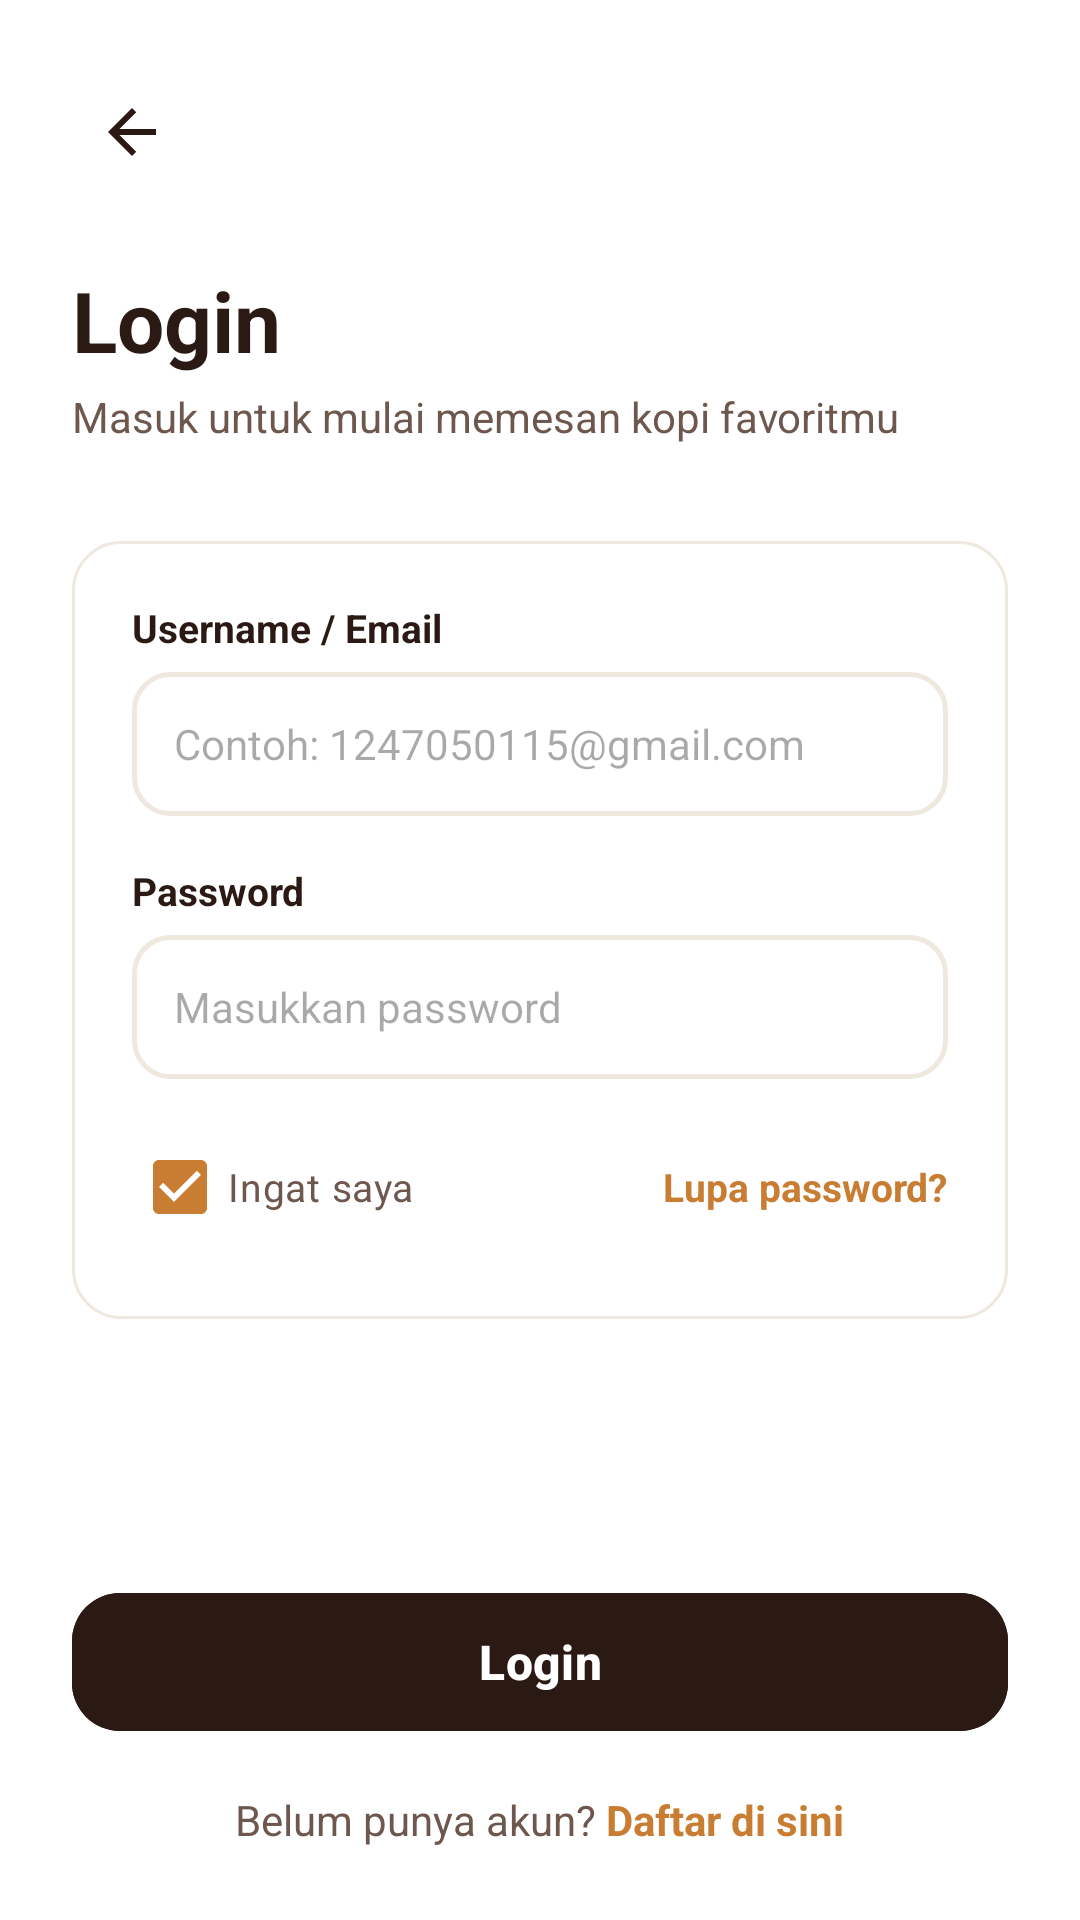

Icons on this 1080px x 1920px Android screen, each with its box as box(x1, y1, x2, y2):
Kembali: box(108, 108, 156, 156)
